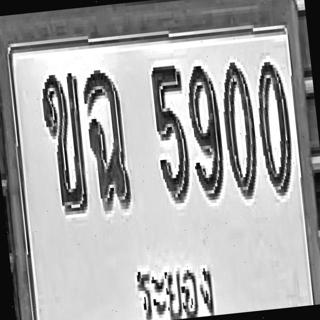A02: (39, 71, 90, 215)
A09: (80, 66, 133, 210)
N00: (252, 55, 296, 195), (218, 58, 261, 200)
N05: (149, 62, 193, 205)
N09: (184, 61, 227, 201)
P53: (130, 252, 220, 320)
